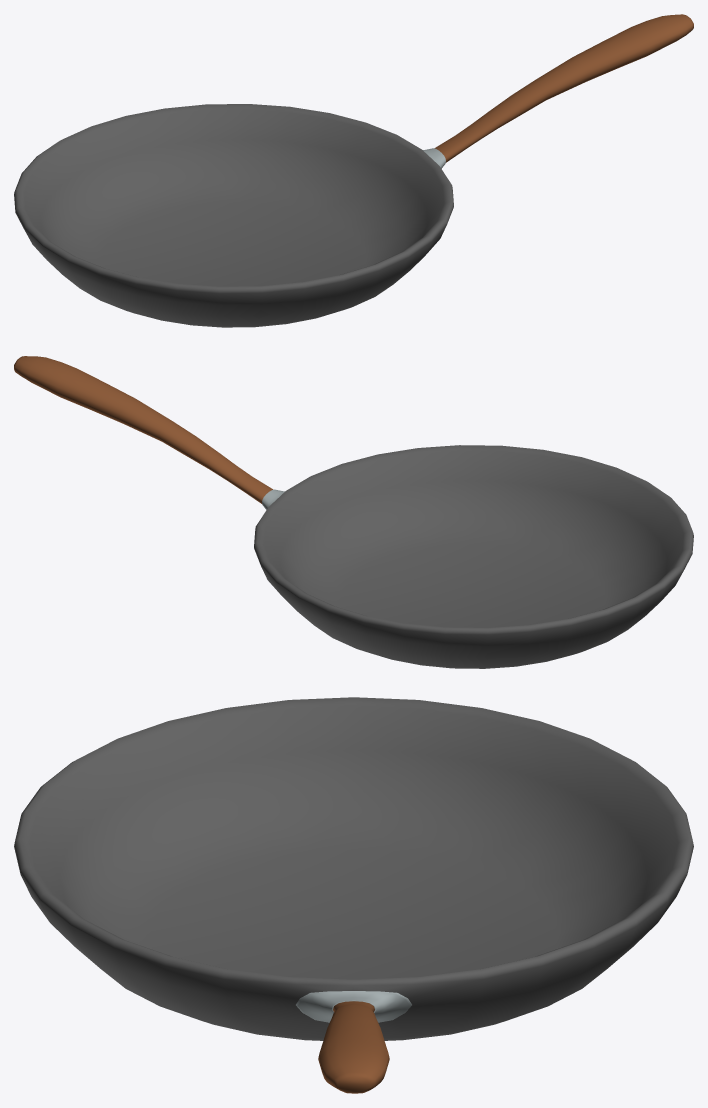
Rendered from pan.dae.
3 views of the same model, one above another, from view 1: azimuth 30°, elevation 25°; view 2: azimuth 150°, elevation 25°; view 3: azimuth 270°, elevation 25° (orthographic). The views are drawn at different scales.
Parts seen in each view (by area): view 1: Cylinder; view 2: Cylinder; view 3: Cylinder.
Boxes of the visible parts, x1,y1,x2,y2 form: Cylinder: (14, 14, 693, 327); Cylinder: (14, 356, 693, 668); Cylinder: (14, 697, 693, 1093).
Size of the model in its own units: 9.9 by 5.86 by 2.06.
